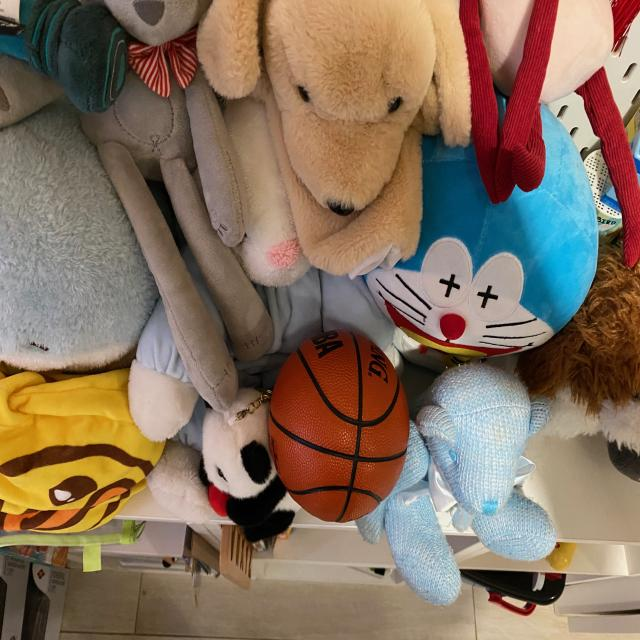Ball: (260, 318, 418, 532)
